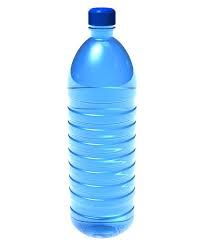available: (64, 4, 144, 241)
